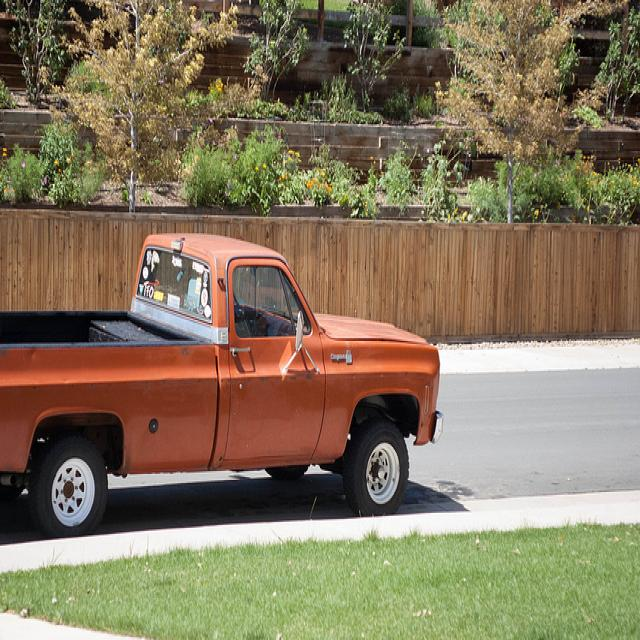Vehicle: (1, 230, 442, 534)
